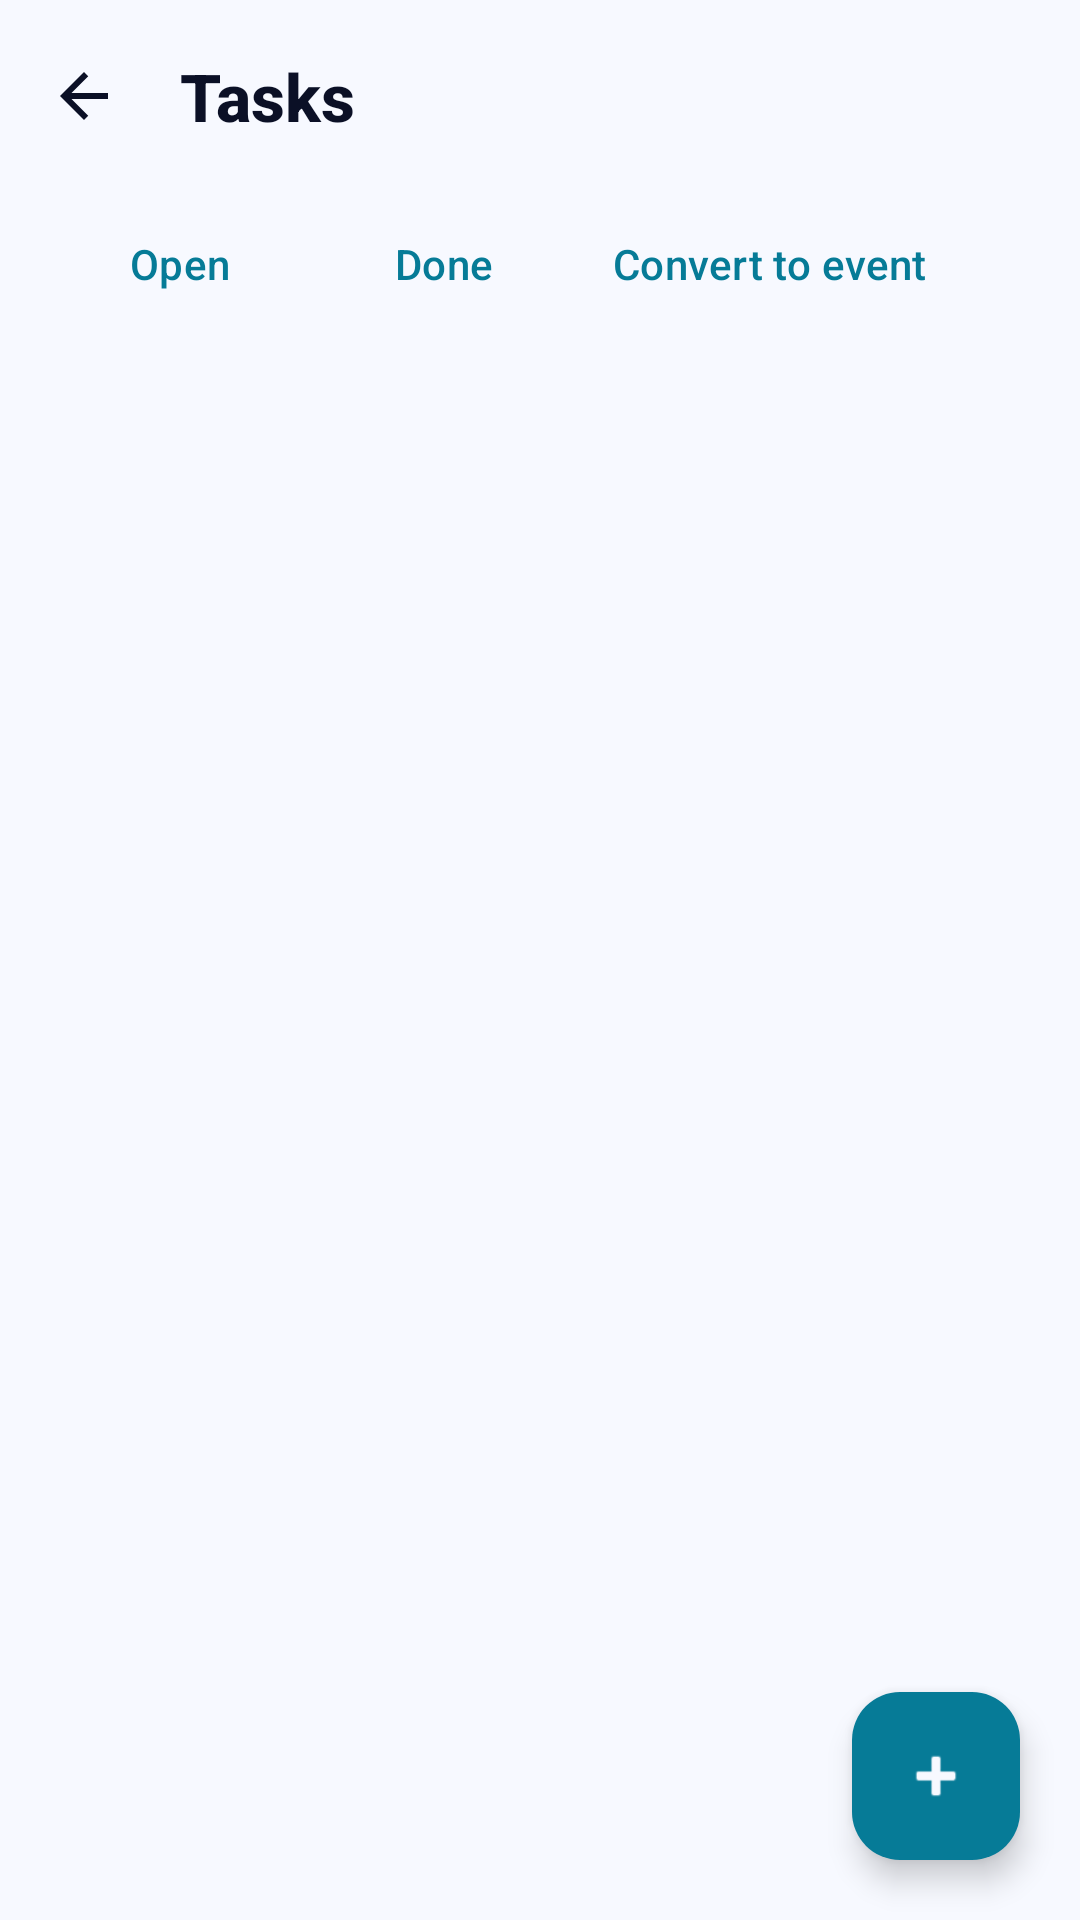

Named icons in this screenshot (1080×1920) and their centers, point (x, y):
New task: point (936, 1776)
